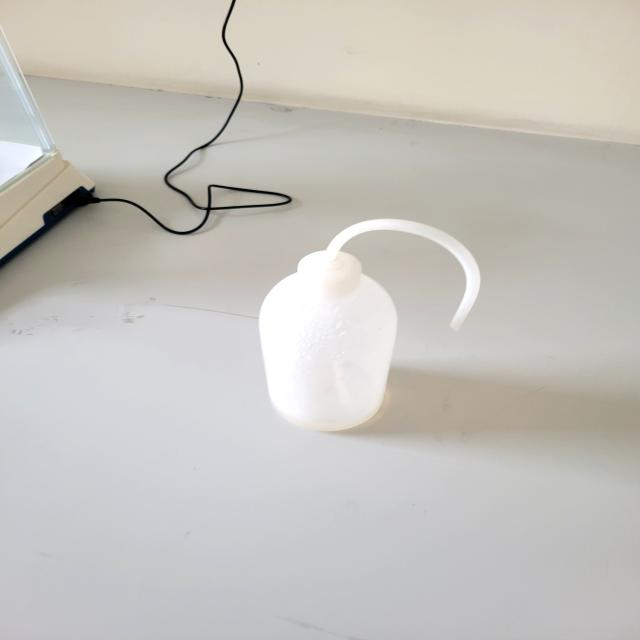Wash_Bottle: (248, 208, 492, 456)
